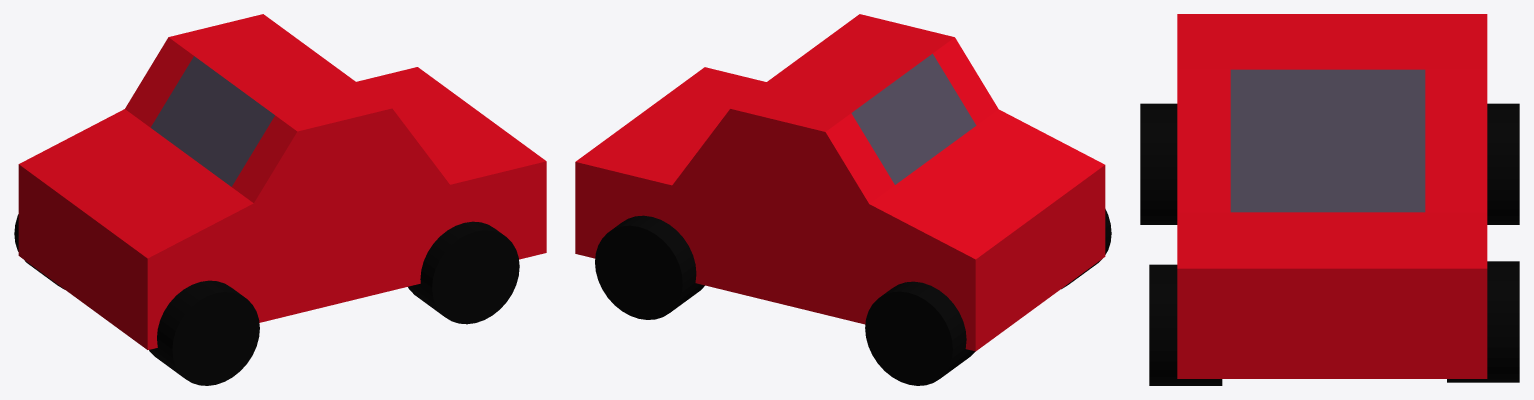
File: ToyCar1.fbx
3 views of the same model, side by side, from view 1: azimuth 30°, elevation 25°; view 2: azimuth 150°, elevation 25°; view 3: azimuth 270°, elevation 25° (orthographic). The views are drawn at different scales.
Parts seen in each view (by area): view 1: Cube, Cylinder.001, Cylinder; view 2: Cube, Cylinder.002, Cylinder.003; view 3: Cube, Cylinder.001, Cylinder.003, Cylinder.002, Cylinder.
Part boxes in pixels (x1,y1,x2,y2): Cube: [18, 14, 546, 349]; Cylinder.001: [149, 280, 259, 385]; Cylinder: [408, 221, 519, 324]; Cube: [575, 14, 1105, 351]; Cylinder.002: [865, 281, 975, 385]; Cylinder.003: [595, 215, 704, 319]; Cube: [1177, 14, 1487, 378]; Cylinder.001: [1140, 103, 1177, 224]; Cylinder.003: [1447, 261, 1519, 382]; Cylinder.002: [1487, 103, 1519, 224]; Cylinder: [1149, 264, 1222, 385].
Size of the model in its own units: 911 by 488 by 625.
